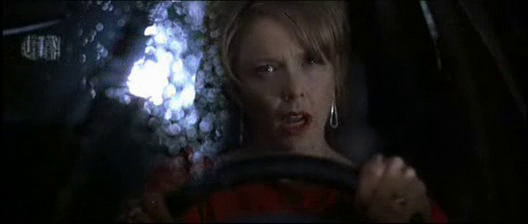cu: (1, 1, 527, 224)
face: (240, 30, 330, 153)
person: (163, 1, 431, 224)
